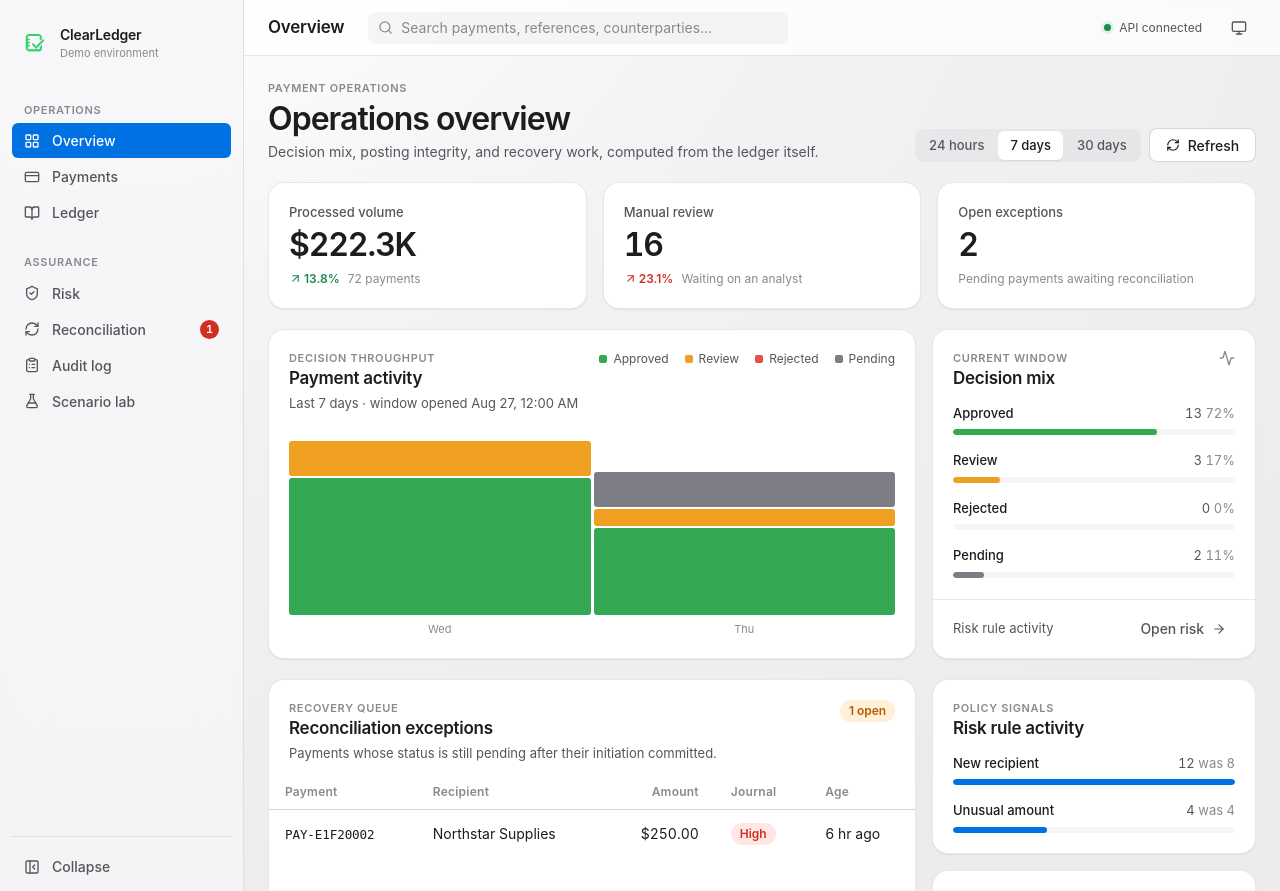
Scenario: operations console › opens the evidence drawer with risk, ledger, and audit sections
Click the button "Payments" at (122, 176), box [12,159,231,194]
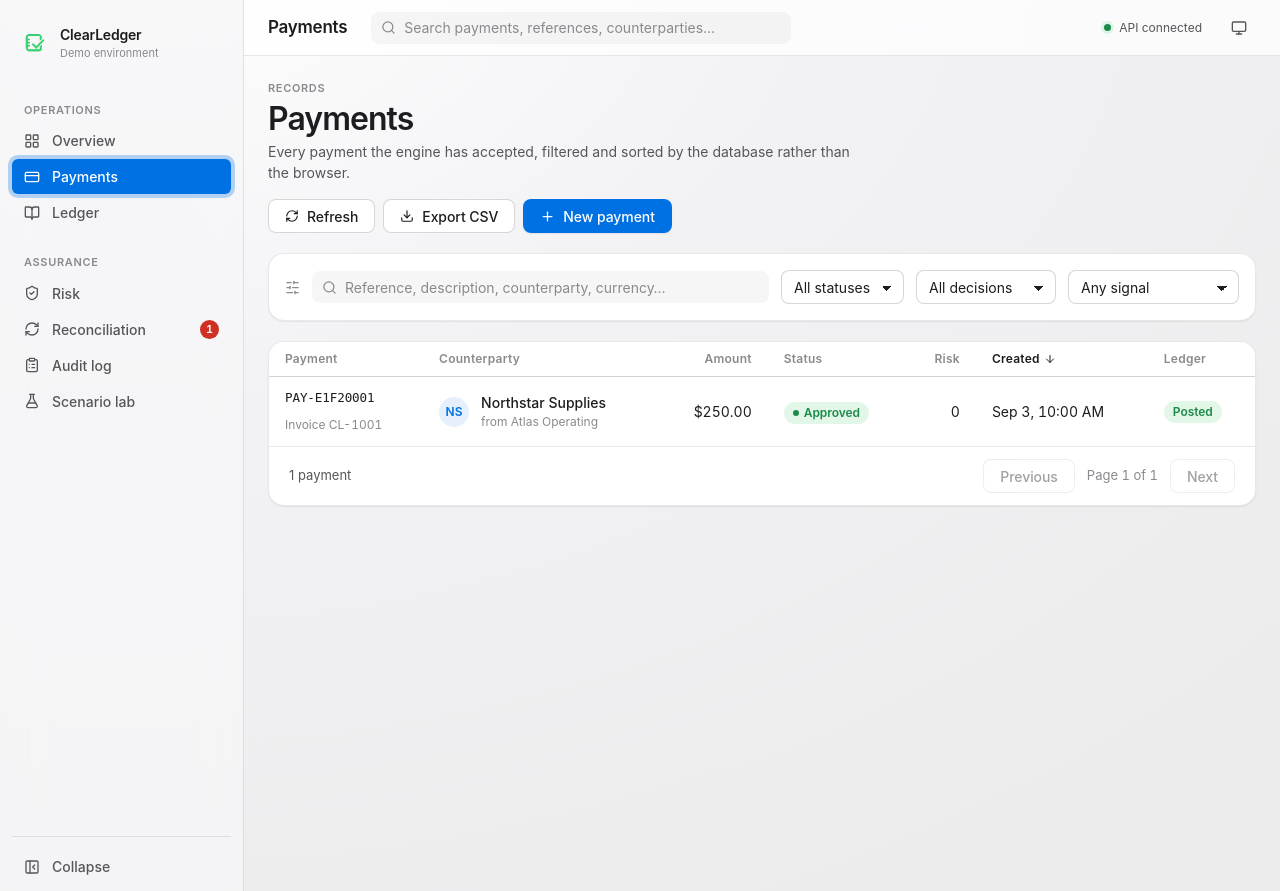
Click the text "PAY-E1F20001" at (330, 398), box [285,390,374,405]
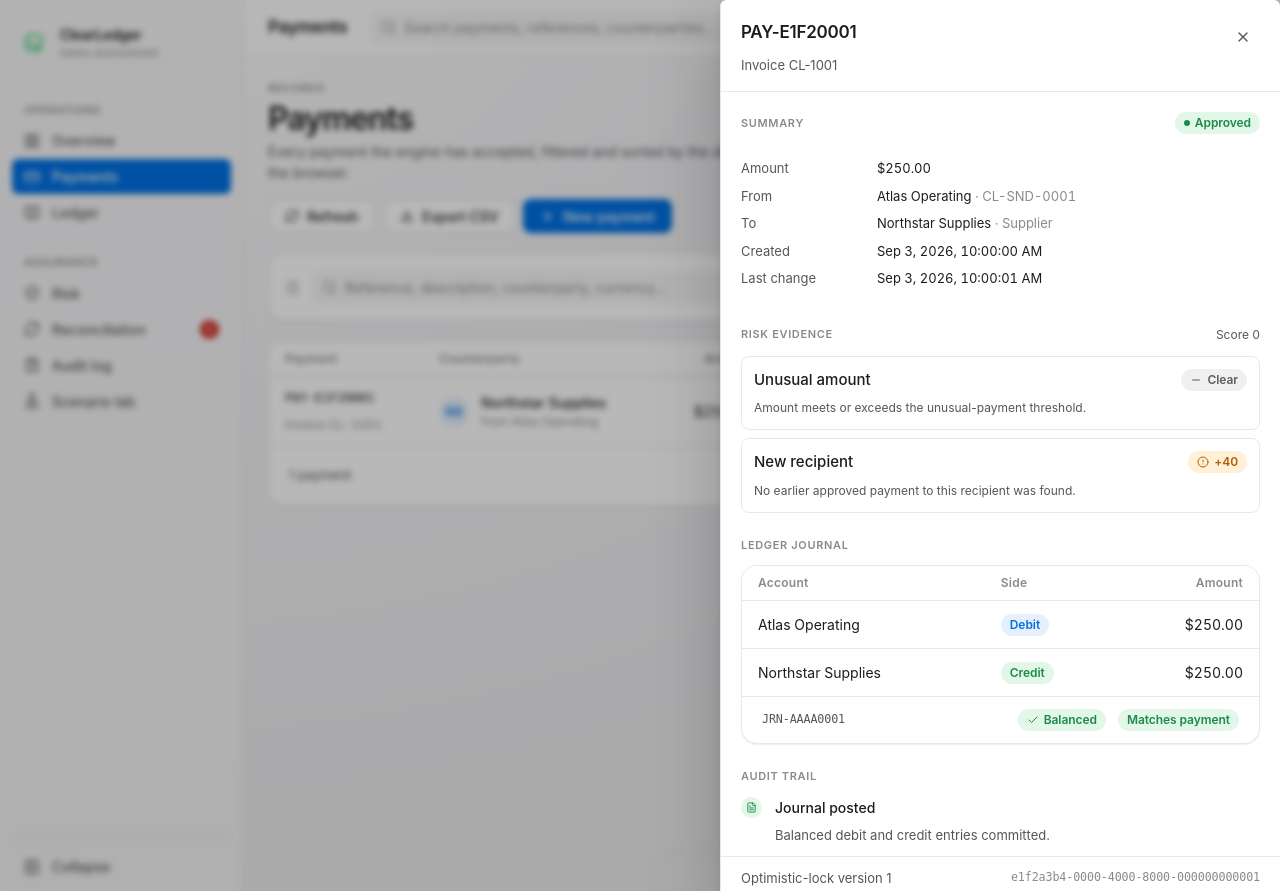
Expected: the text "Risk evidence" is shown, [741,326,833,343]
Expected: the text "Ledger journal" is shown, [741,538,849,552]
Expected: the text "Audit trail" is shown, [741,769,817,783]
